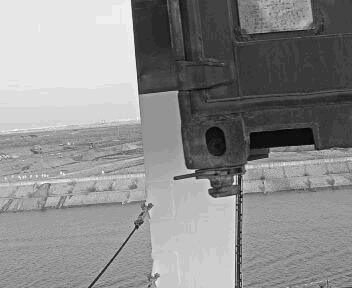twist_lock_1: (188, 158, 252, 208)
